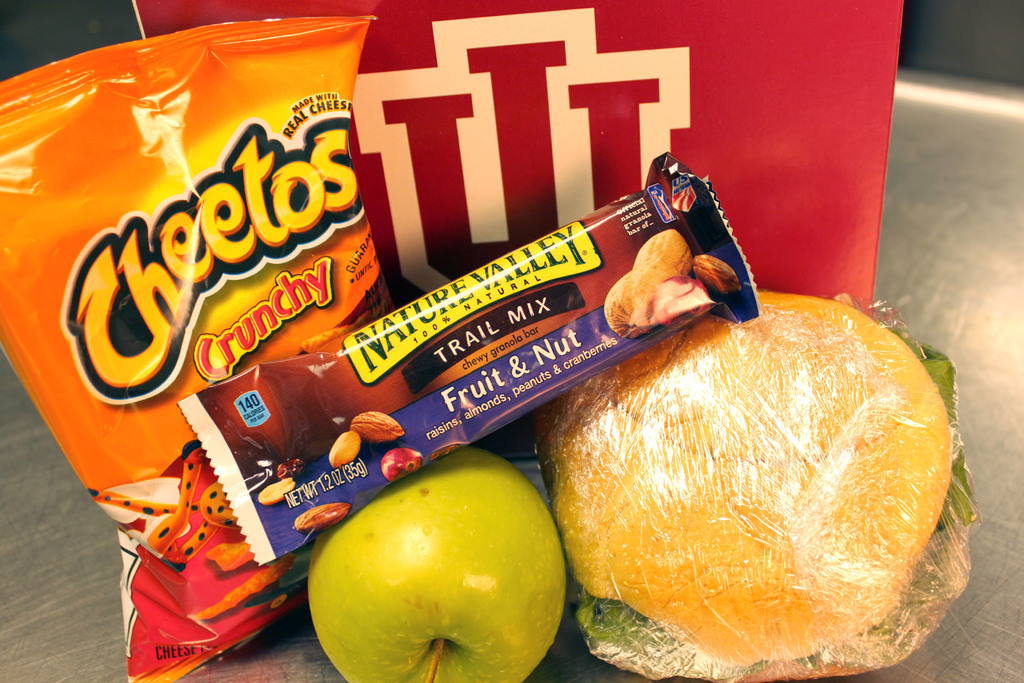Apple: (305, 446, 565, 682)
